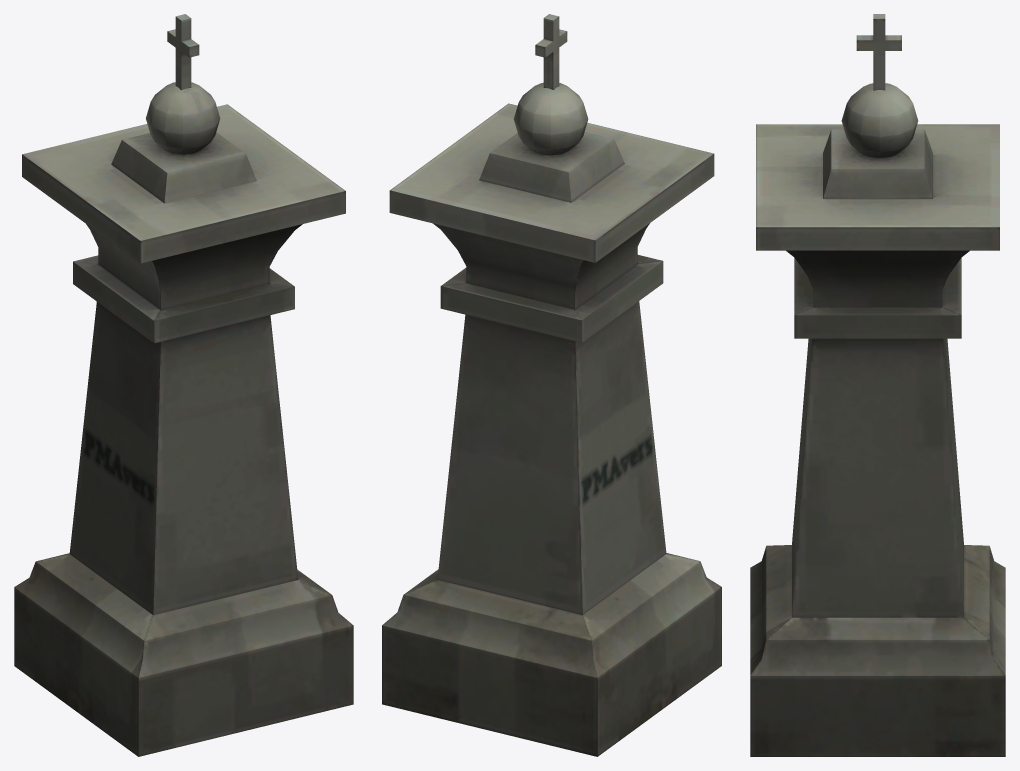
Rendered from gravestone_05a.glb.
The picture shows the model from 3 angles, left to right: view 1: azimuth 30°, elevation 25°; view 2: azimuth 150°, elevation 25°; view 3: azimuth 270°, elevation 25°; orthographic projection. The views are drawn at different scales.
Visible parts, largest first — view 1: gravestone_05a; view 2: gravestone_05a; view 3: gravestone_05a.
Part boxes in pixels (x1,y1,x2,y2): gravestone_05a: (14,14,353,756); gravestone_05a: (382,14,721,756); gravestone_05a: (750,14,1005,756).
Bounding box in the file's own units: 0.762 × 2.26 × 0.762.
Materials: 1 (1 with a texture image).
